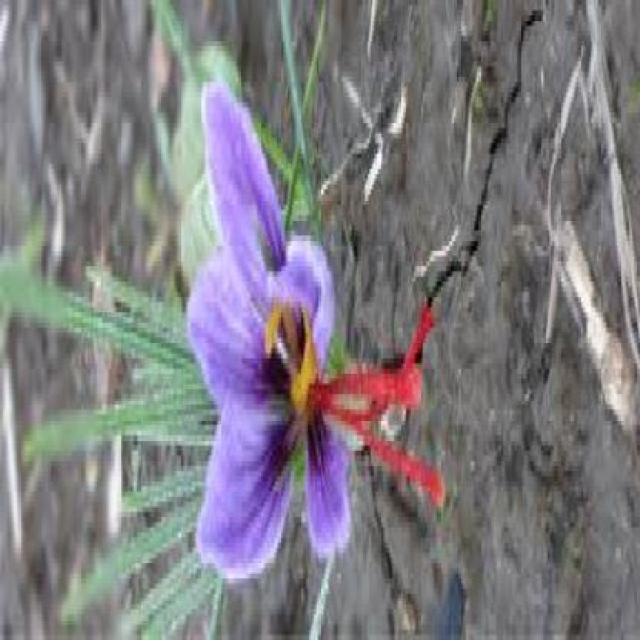saffron open: (188, 81, 349, 578)
